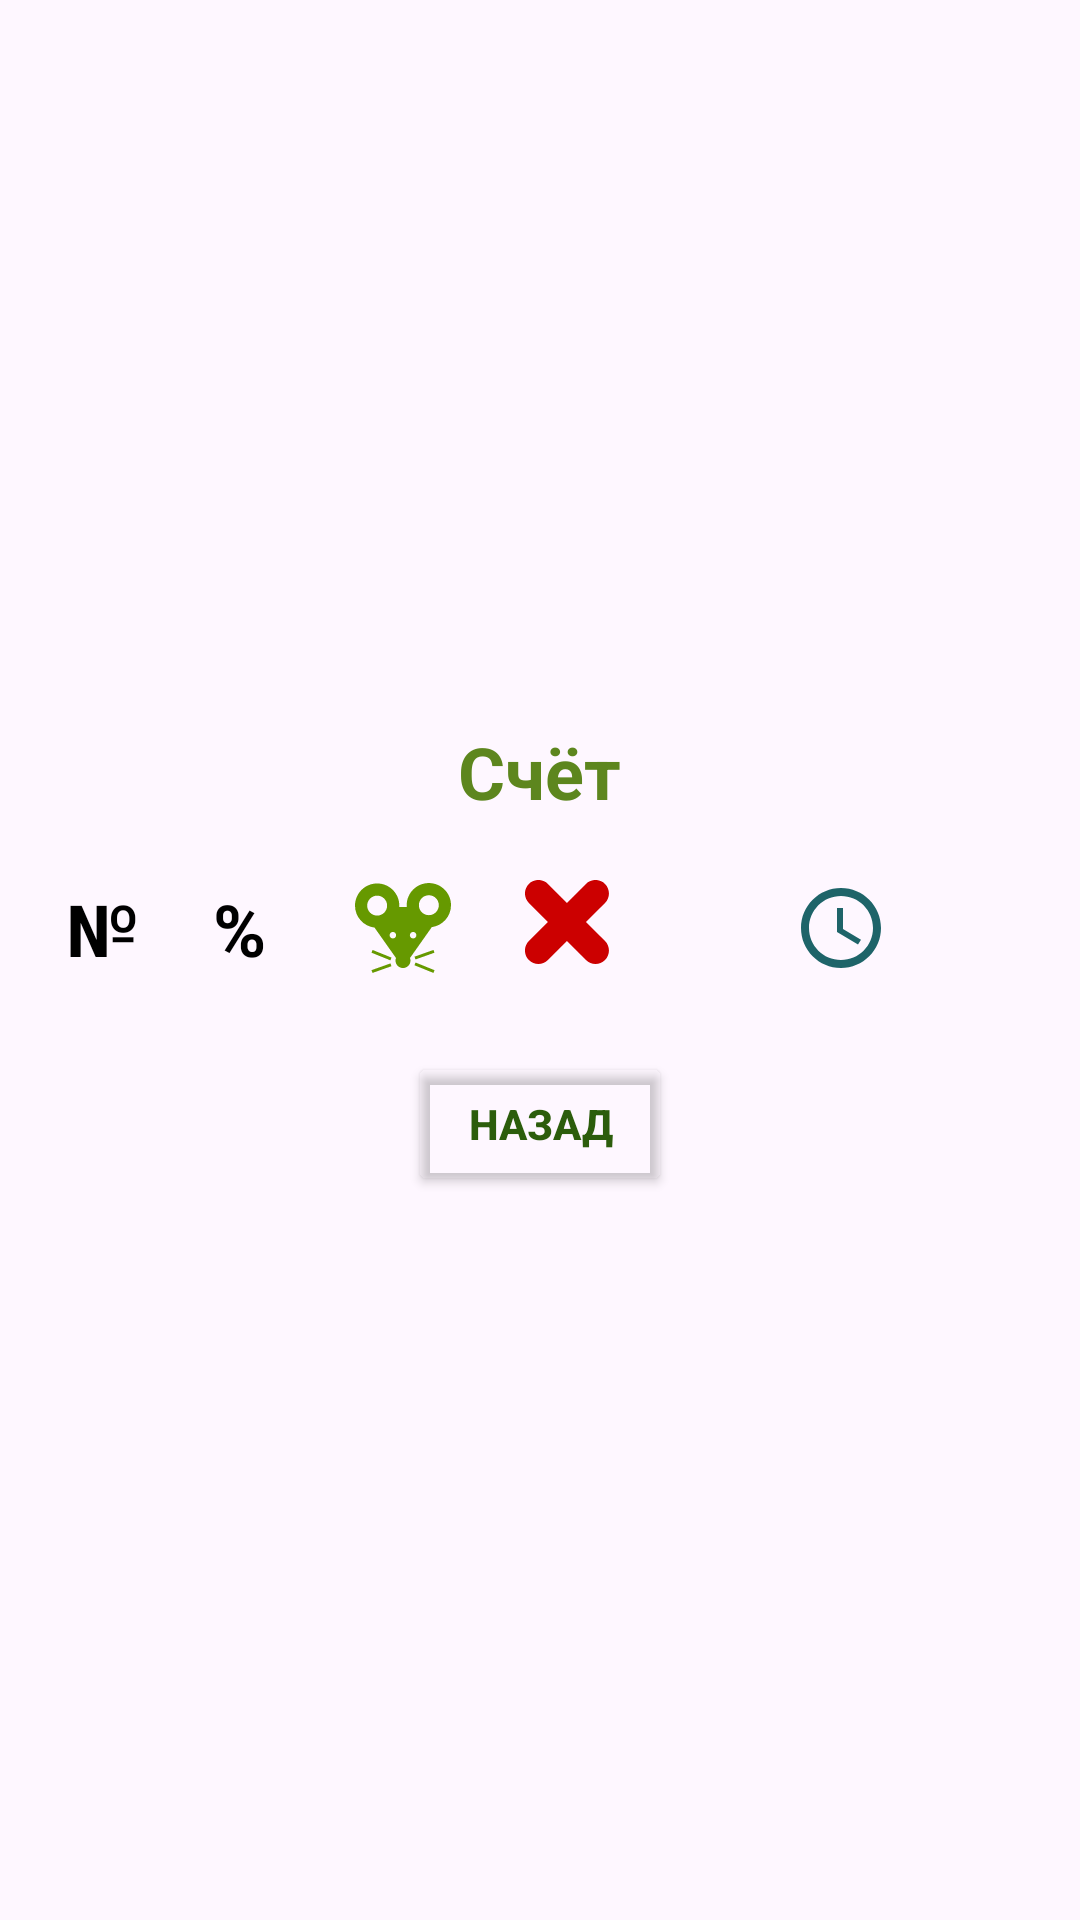

Icons on this 1080w x 1920h Android screen, each with the point to tap as (x=x, y=y):
miss: (x=567, y=922)
time: (x=841, y=928)
